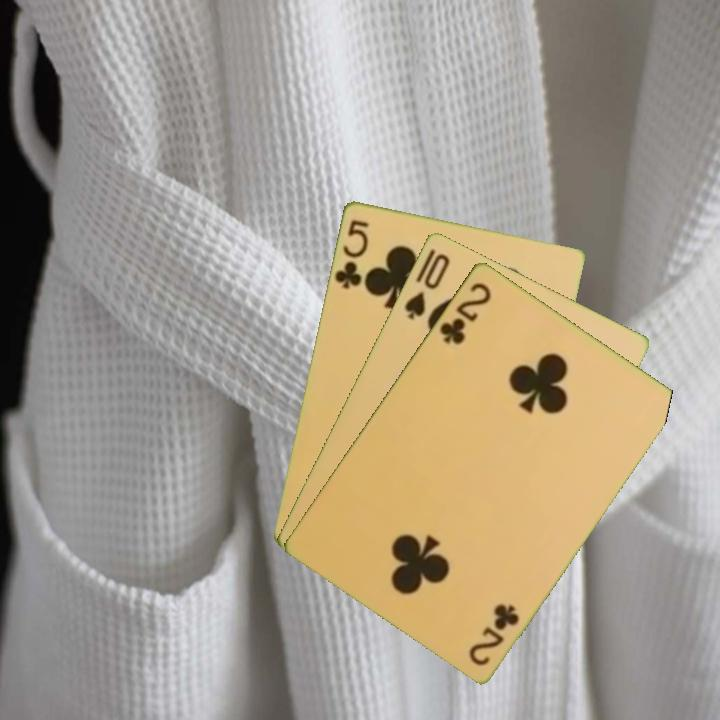10s: (400, 249, 453, 322)
2c: (436, 278, 494, 347), (465, 599, 522, 669)
5c: (331, 215, 371, 292)
